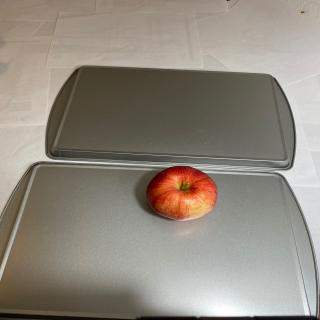Apple: (146, 166, 218, 221)
